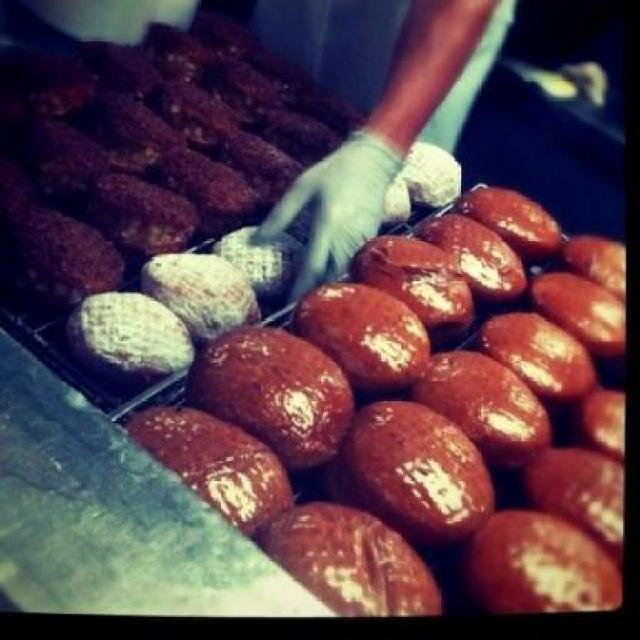Donuts: (14, 23, 638, 640)
